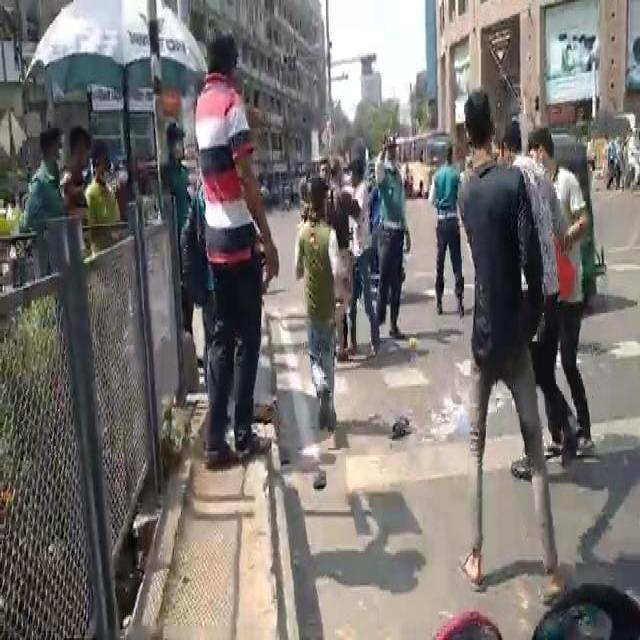fight: (458, 74, 594, 559), (190, 33, 279, 479), (290, 112, 380, 306)
